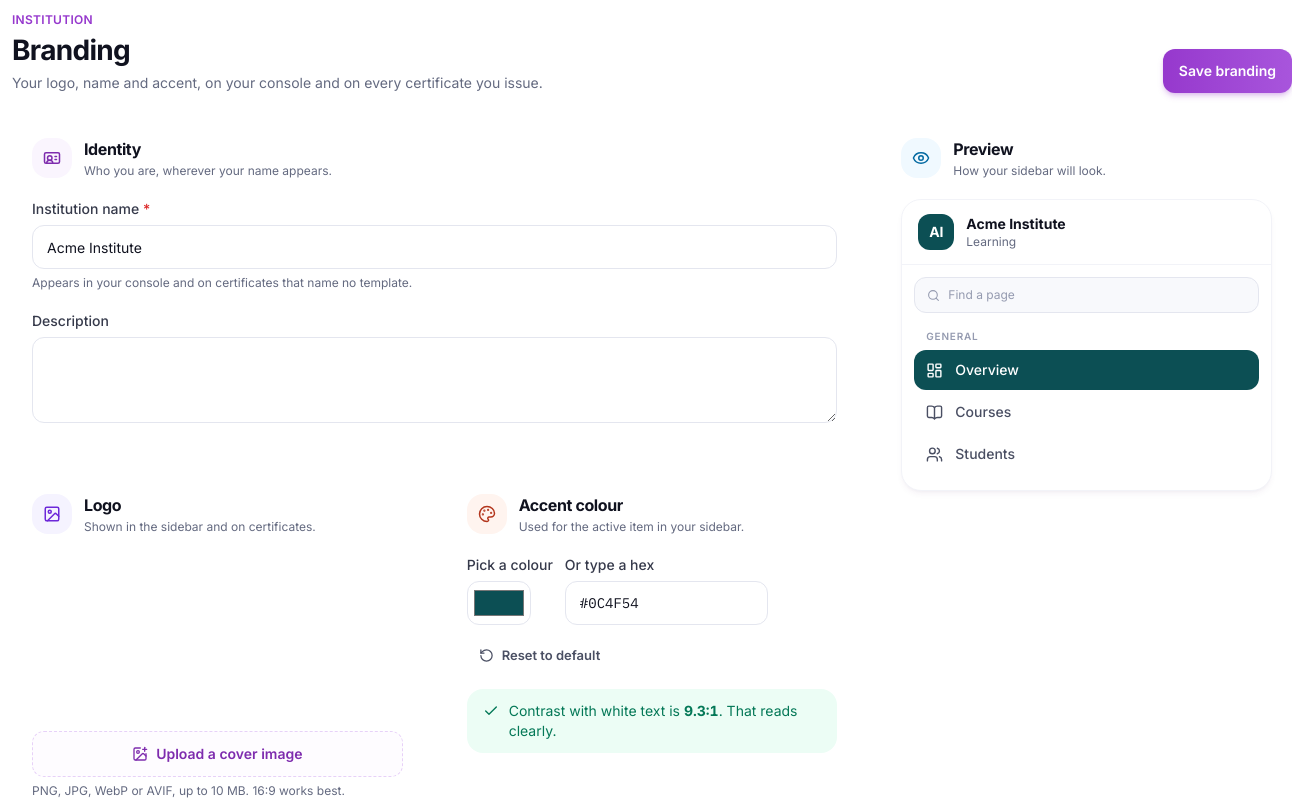
Scenario: BrandingPage: saving › sends the branding and re-reads the session so the sidebar updates
Check: the field labelled "Institution name *" is shown, box x1=32 y1=225 x2=837 y2=269
Click the button "Save branding": (1227, 71) x1=1163 y1=49 x2=1292 y2=93
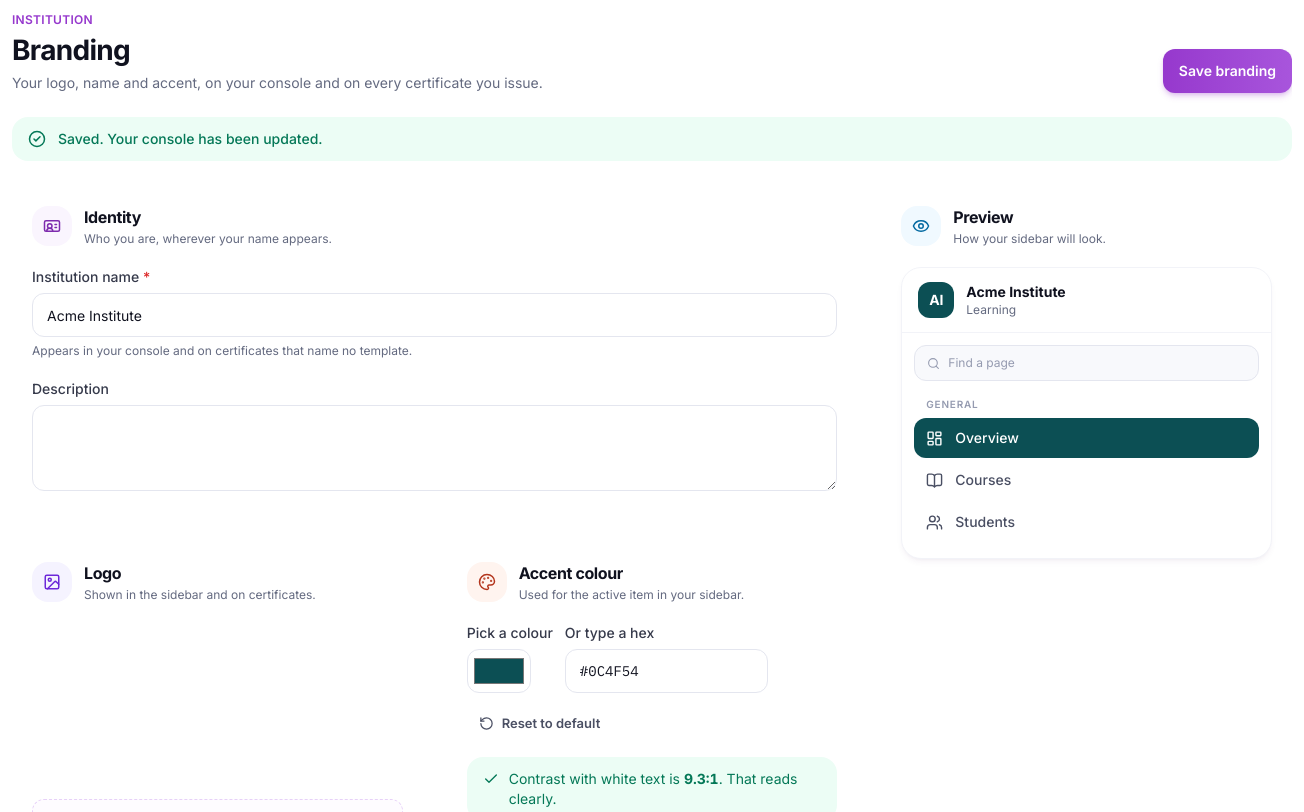
Check: the text "Saved. Your console has been updated." is shown, box x1=12 y1=117 x2=1292 y2=161
